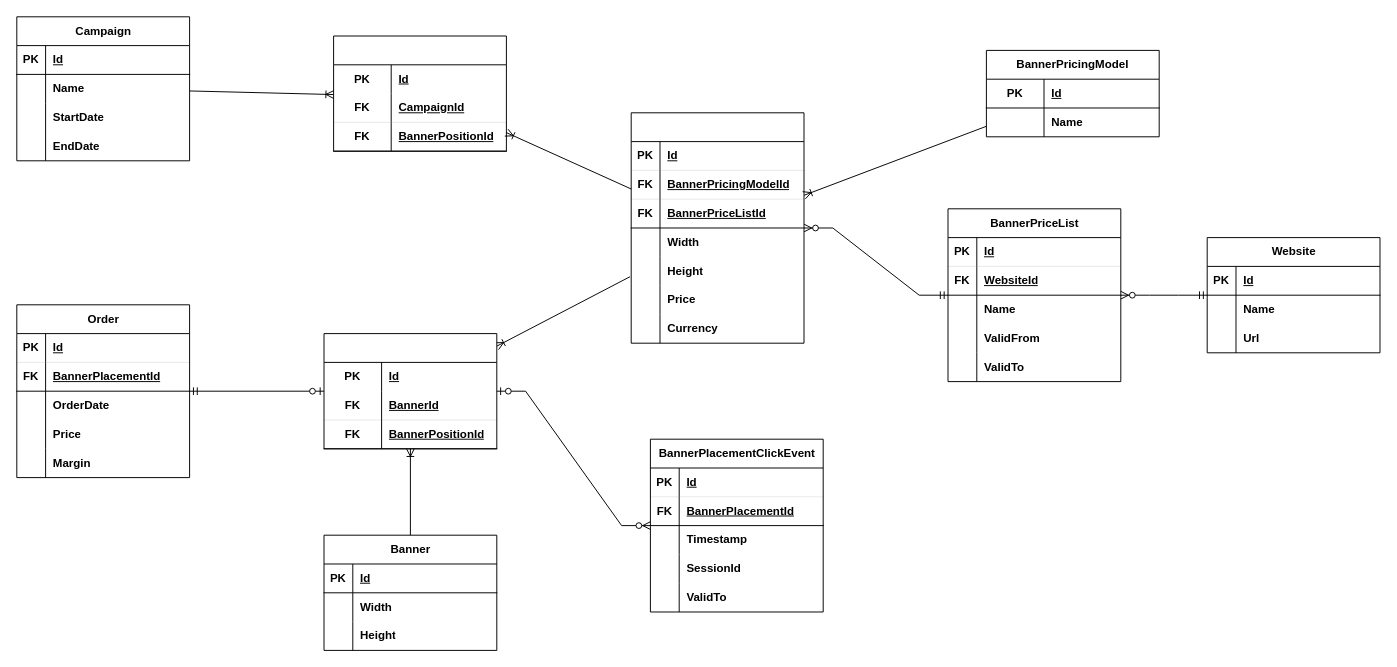
Image size: 1397x667. Some labels were removed from this diagram. The shapes that lost their labels are listed below. From the top down, each one's box as (x1, y1, x2, y2) in pixels, then its label:
(333, 35, 506, 151): CampaignBannerPosition
(630, 112, 804, 343): BannerPosition
(323, 333, 497, 449): BannerPlacement
